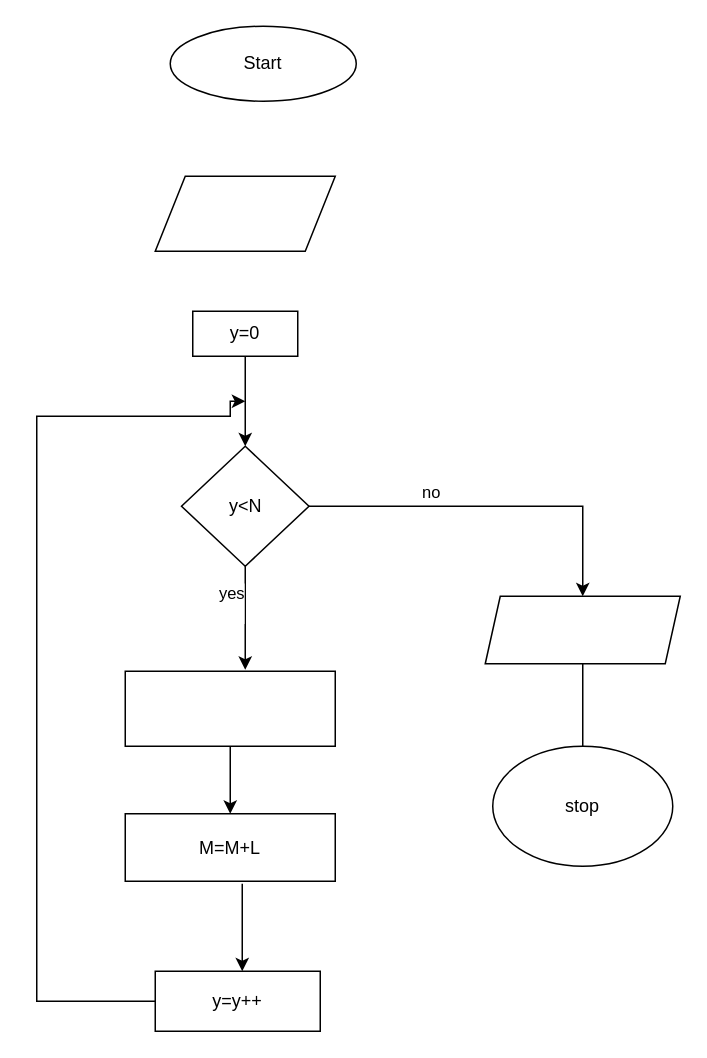
The diagram is 707 pixels wide and 1058 high, and some of its shapes have lost their labels. Here are the shapes that lost their labels. From the top down, the box of each, then its label:
(154, 175, 335, 251): input M,N,LS
(484, 595, 680, 664): displays M
(124, 670, 335, 746): L=M*LS/100
